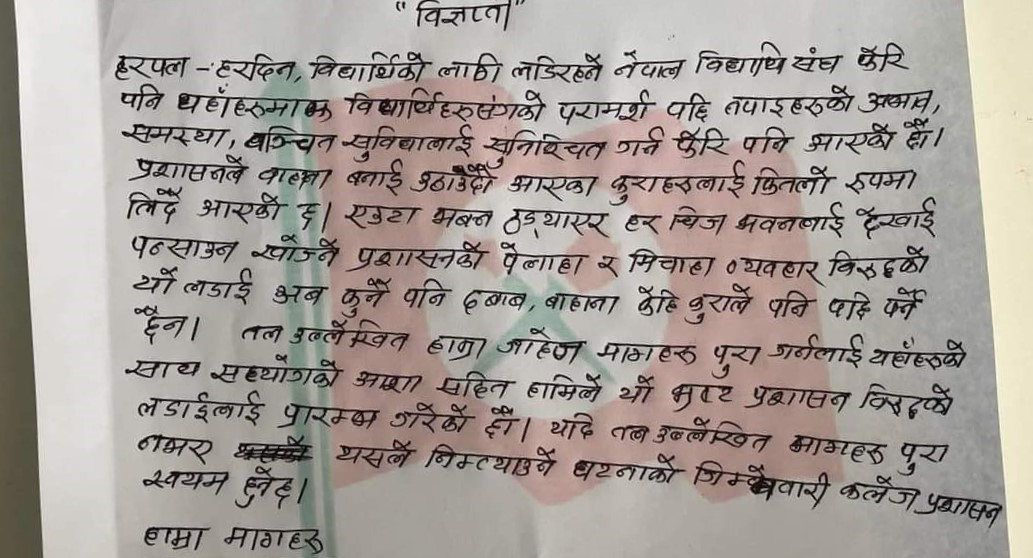text: (344, 85, 545, 122), (692, 457, 833, 509), (608, 163, 748, 204), (171, 89, 338, 122), (342, 122, 476, 162), (136, 385, 268, 425), (720, 79, 855, 118), (423, 441, 559, 479), (482, 127, 609, 167), (209, 351, 340, 389), (654, 414, 771, 456), (290, 315, 409, 356), (346, 239, 487, 273), (306, 50, 428, 86), (734, 200, 845, 238), (767, 330, 867, 372), (570, 450, 680, 488), (692, 37, 791, 79), (869, 335, 972, 375), (125, 152, 247, 185), (554, 88, 652, 129), (851, 197, 942, 241), (826, 243, 931, 281), (745, 381, 852, 418), (784, 428, 887, 466), (857, 381, 957, 420), (493, 325, 584, 365), (921, 488, 1004, 531), (500, 207, 607, 240), (221, 523, 324, 557), (498, 239, 587, 278), (127, 234, 238, 265), (508, 51, 606, 86), (120, 119, 230, 150), (248, 233, 341, 269), (196, 190, 282, 228), (505, 169, 600, 203), (596, 337, 700, 368), (626, 247, 718, 282), (272, 401, 378, 431), (137, 464, 232, 497), (411, 1, 515, 31), (182, 263, 252, 307), (241, 123, 337, 155), (750, 162, 835, 198), (333, 434, 413, 472), (804, 123, 896, 156), (525, 369, 605, 406), (838, 474, 920, 510), (723, 254, 821, 284), (686, 283, 751, 328), (133, 430, 216, 465), (234, 464, 294, 512), (213, 52, 297, 86), (386, 401, 472, 434), (607, 48, 687, 83), (412, 165, 497, 197), (434, 367, 511, 401), (113, 50, 191, 83), (342, 198, 419, 231), (131, 302, 189, 345), (140, 520, 209, 556), (335, 274, 392, 317), (436, 51, 506, 86), (540, 289, 621, 319), (120, 353, 203, 382), (123, 185, 184, 224), (669, 377, 735, 413), (346, 159, 405, 197), (351, 366, 423, 397), (673, 125, 733, 162), (860, 88, 934, 118), (852, 38, 911, 75), (893, 441, 952, 478), (457, 283, 528, 313), (708, 342, 763, 380), (844, 168, 918, 196), (424, 332, 490, 363), (256, 162, 331, 189), (430, 202, 493, 234), (667, 204, 728, 235), (740, 124, 794, 159), (271, 278, 327, 310), (661, 91, 714, 124), (545, 411, 601, 442), (880, 286, 929, 321), (119, 81, 167, 116), (633, 284, 681, 319), (764, 287, 813, 321), (613, 126, 664, 158), (793, 44, 842, 77), (827, 290, 874, 324), (401, 277, 449, 310), (614, 372, 657, 408), (130, 266, 178, 298), (482, 405, 520, 441), (607, 415, 649, 447), (619, 208, 663, 235), (899, 116, 931, 150), (238, 324, 285, 345), (595, 250, 623, 282), (294, 197, 321, 230)
